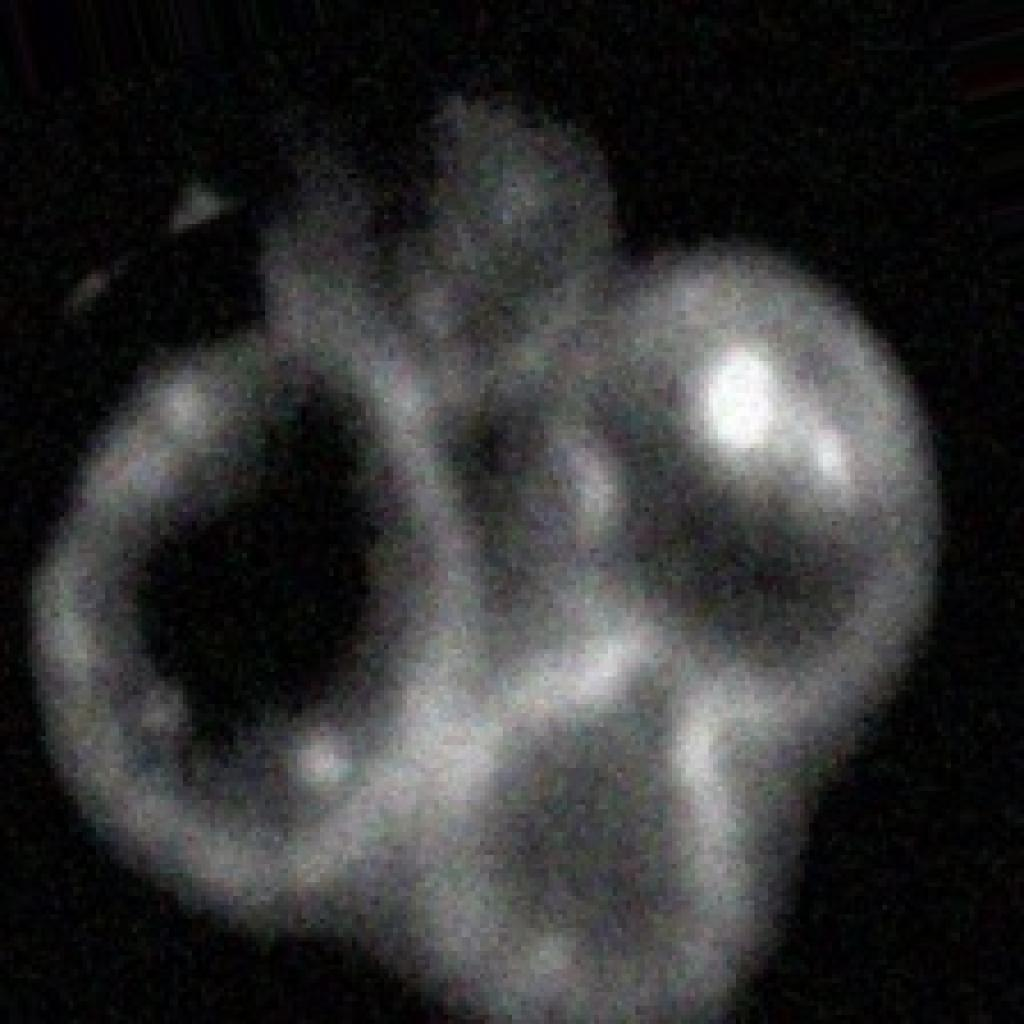Yeast: (14, 68, 946, 1020)
